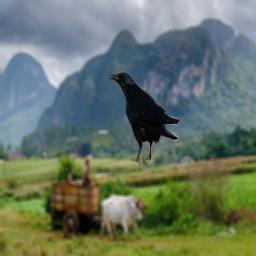Crow: (108, 70, 179, 167)
